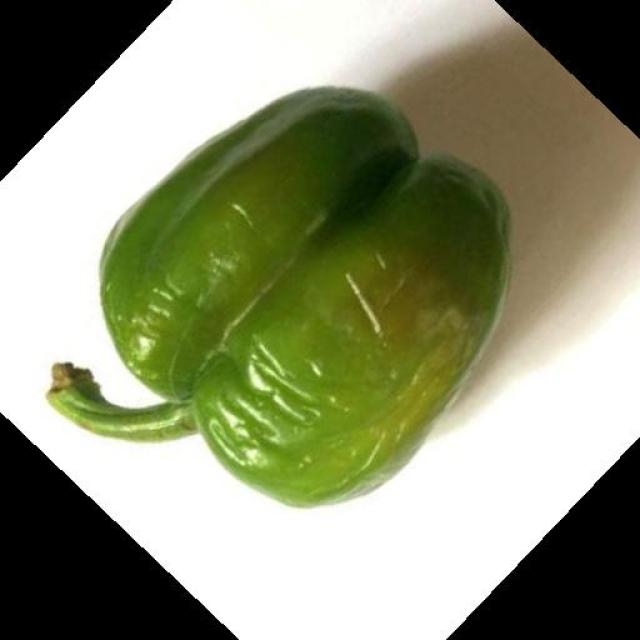Stale_Capsicum: (69, 96, 526, 524)
